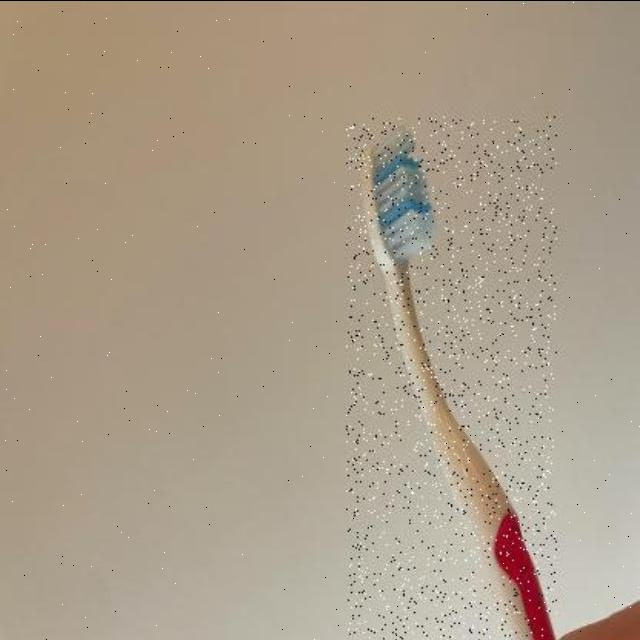toothbrush: (347, 116, 557, 640)
